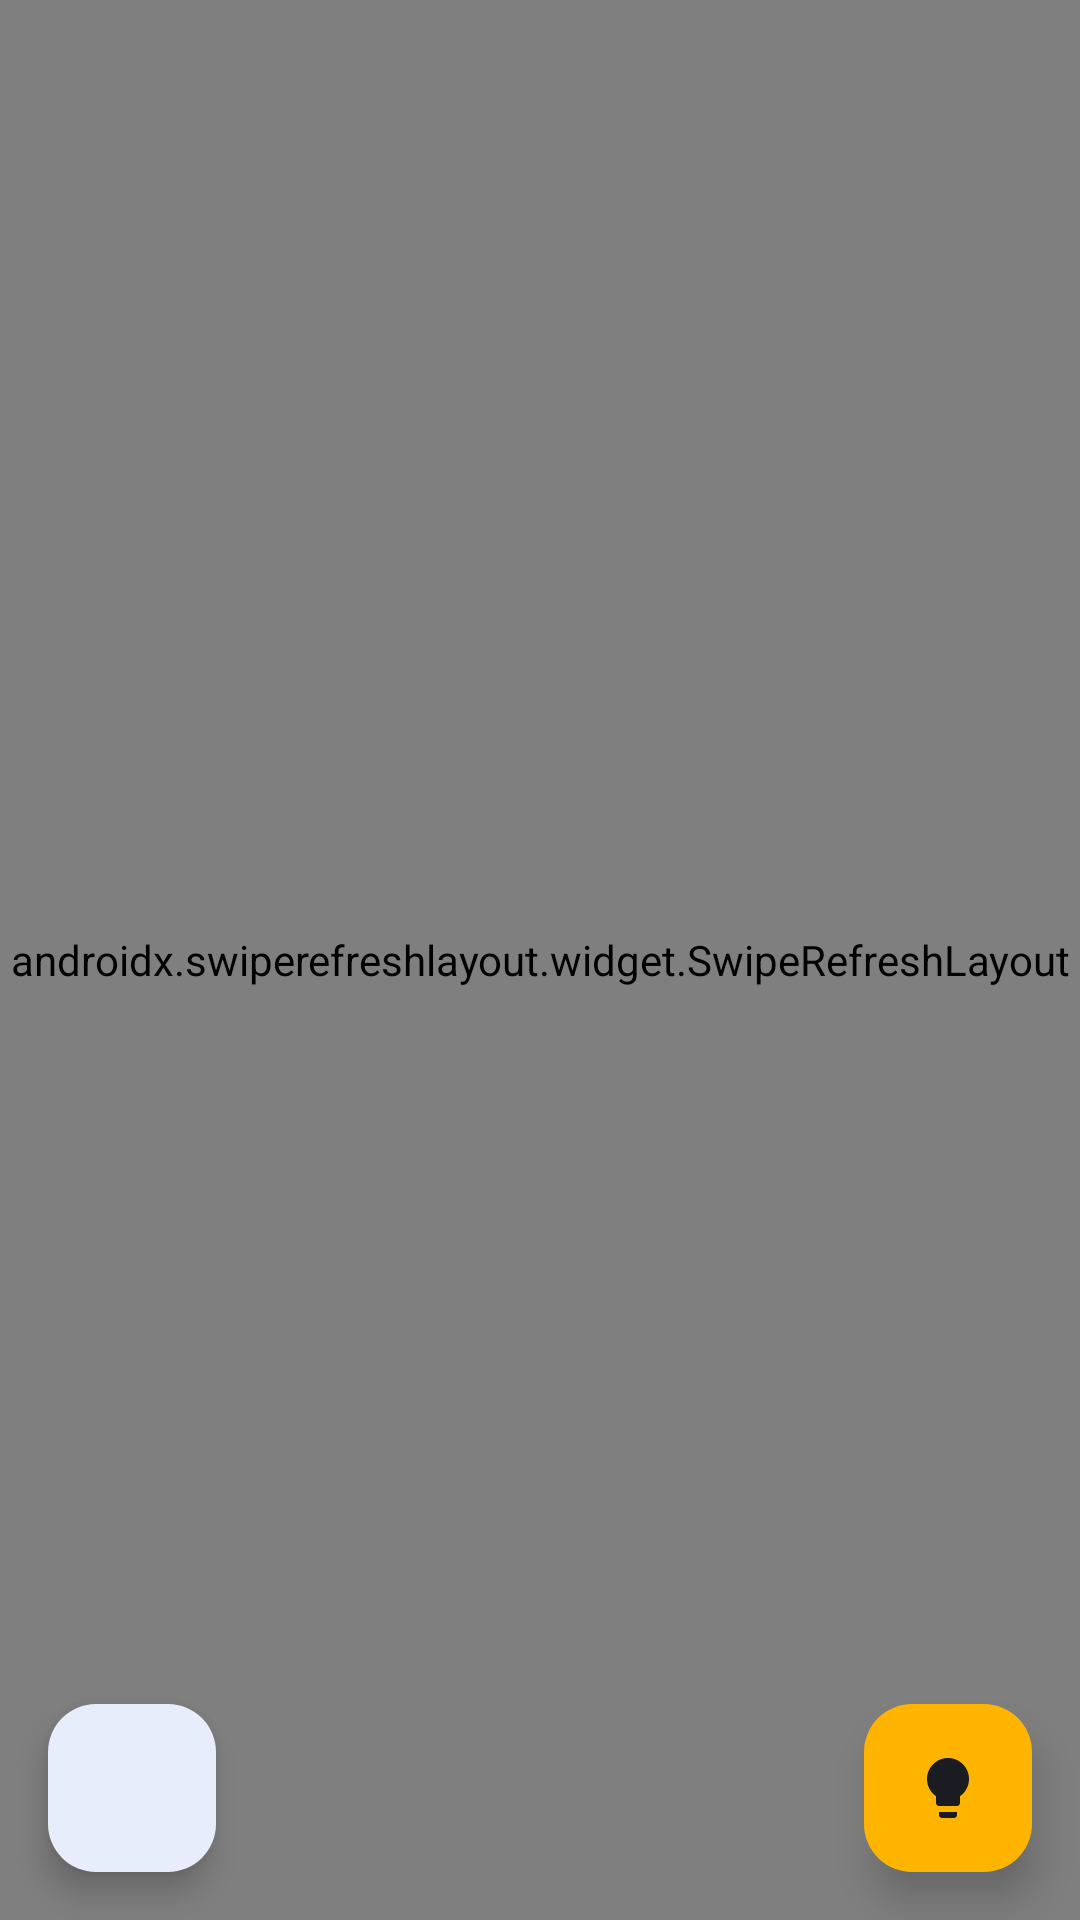

Icon bounding boxes for this 1080*1920 phone screenshot, format [x1, y1, x2, y2]:
Hints & journal: [864, 1704, 1032, 1872]
